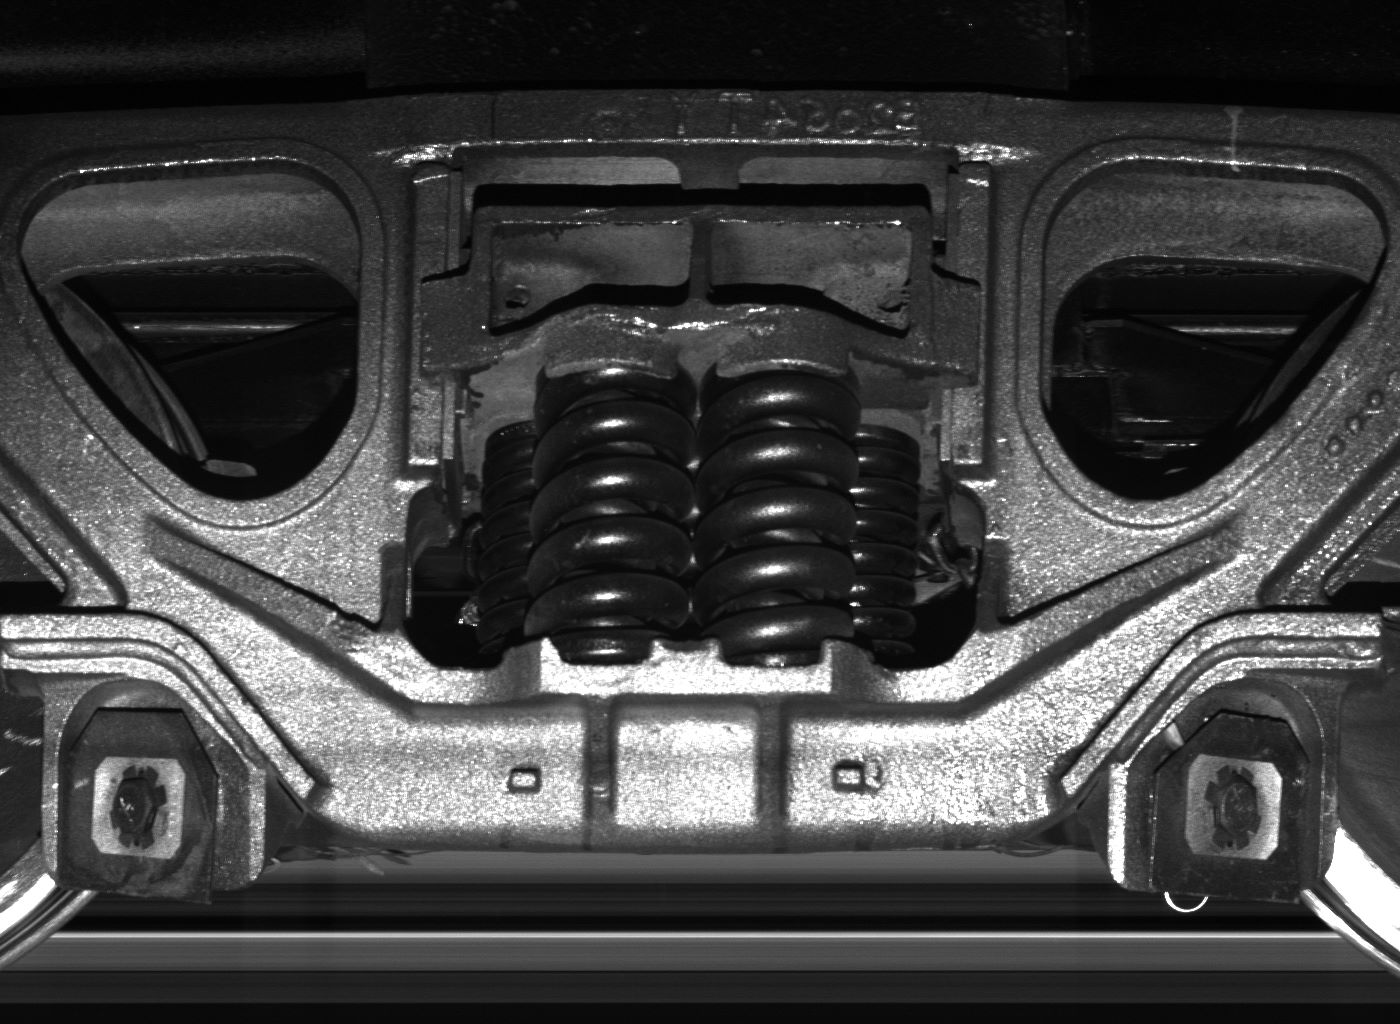Locking plate: (42, 680, 264, 907)
normal: (1109, 680, 1338, 899)
